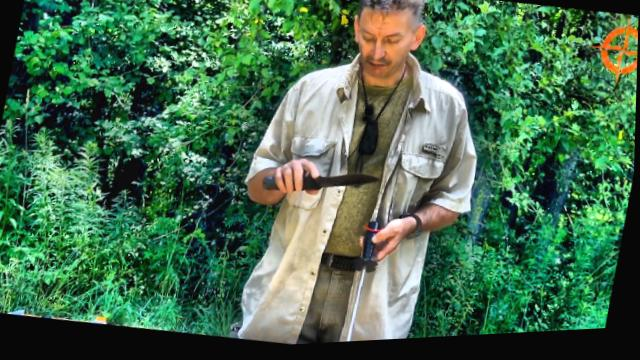knife: (258, 152, 384, 212)
